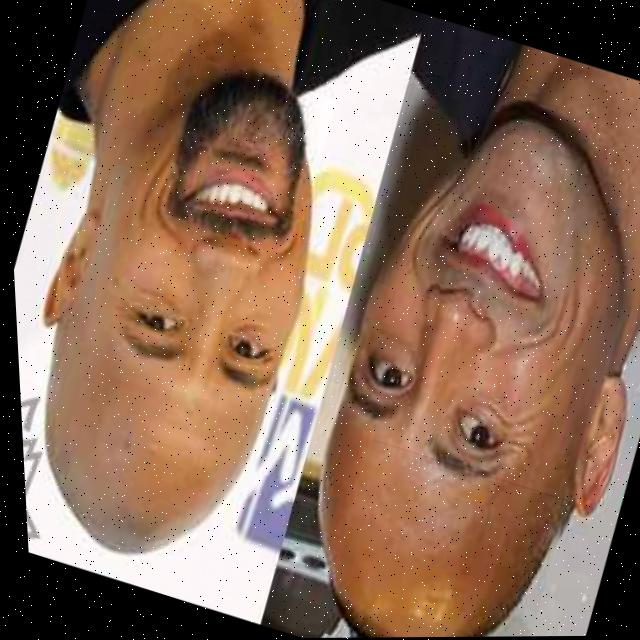beard: (167, 72, 308, 239)
hair: (444, 501, 559, 638), (325, 581, 388, 638)
